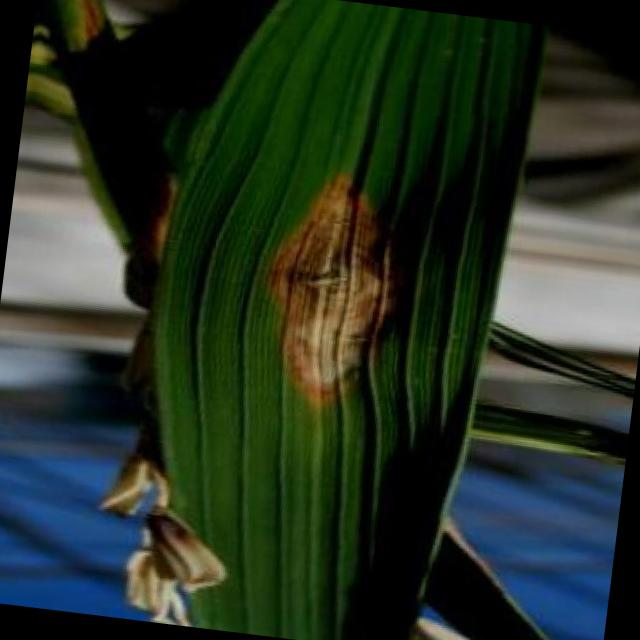Rice_Blast: (214, 127, 448, 430)
